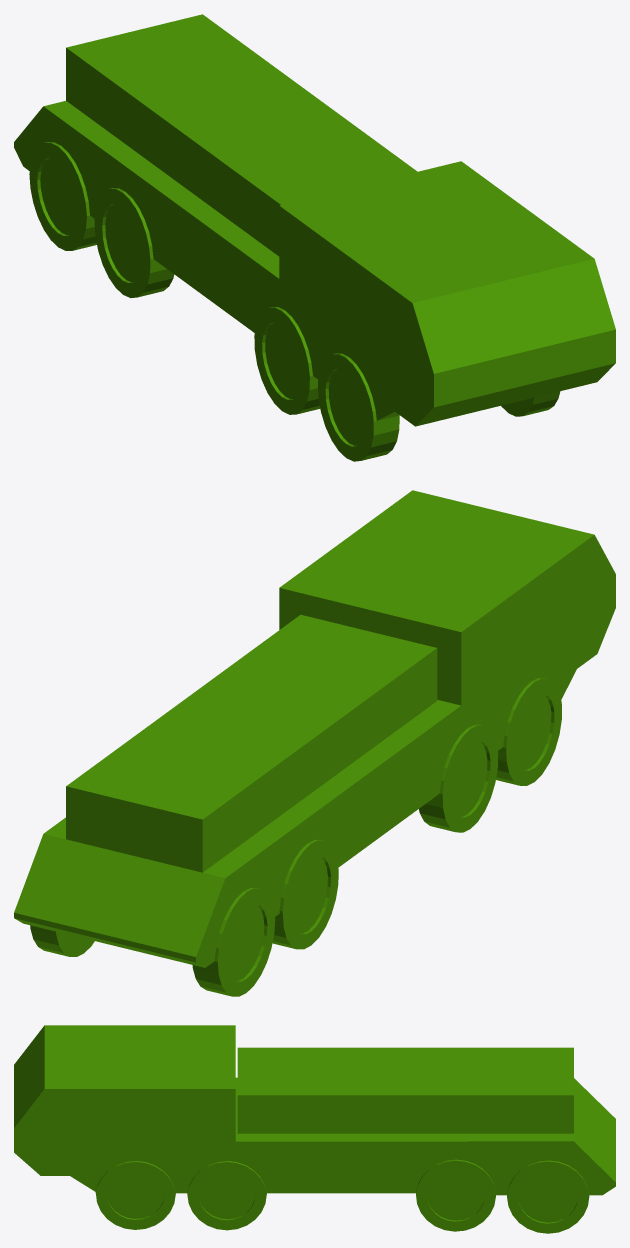
File: Boardgame_Piece_Military_Modern_Scud_Green_01.fbx
3 renders of one model, top to bottom at view 1: azimuth 30°, elevation 25°; view 2: azimuth 150°, elevation 25°; view 3: azimuth 270°, elevation 25°, orthographic. The views are drawn at different scales.
Parts seen in each view (by area): view 1: Boardgame_Piece_Military_Modern_Scud_Green_01; view 2: Boardgame_Piece_Military_Modern_Scud_Green_01; view 3: Boardgame_Piece_Military_Modern_Scud_Green_01.
Part boxes in pixels (x1=…): Boardgame_Piece_Military_Modern_Scud_Green_01: x1=14, y1=14, x2=615, y2=461; Boardgame_Piece_Military_Modern_Scud_Green_01: x1=14, y1=490, x2=615, y2=996; Boardgame_Piece_Military_Modern_Scud_Green_01: x1=14, y1=1025, x2=615, y2=1233.
Bounding box in the file's own units: 725 × 738 × 2802.
